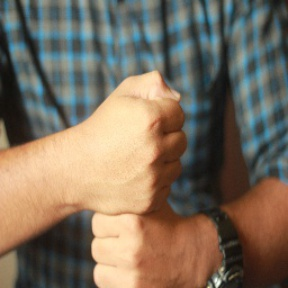G: (79, 68, 197, 288)
